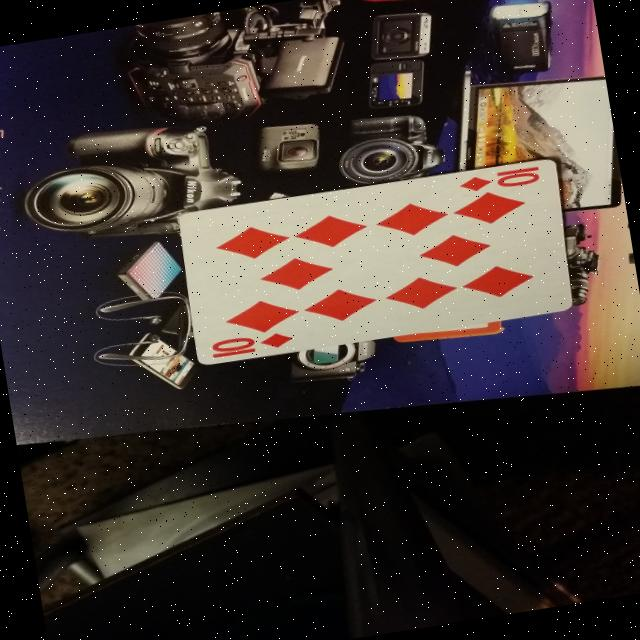10d: (198, 320, 302, 367), (453, 160, 550, 200)
